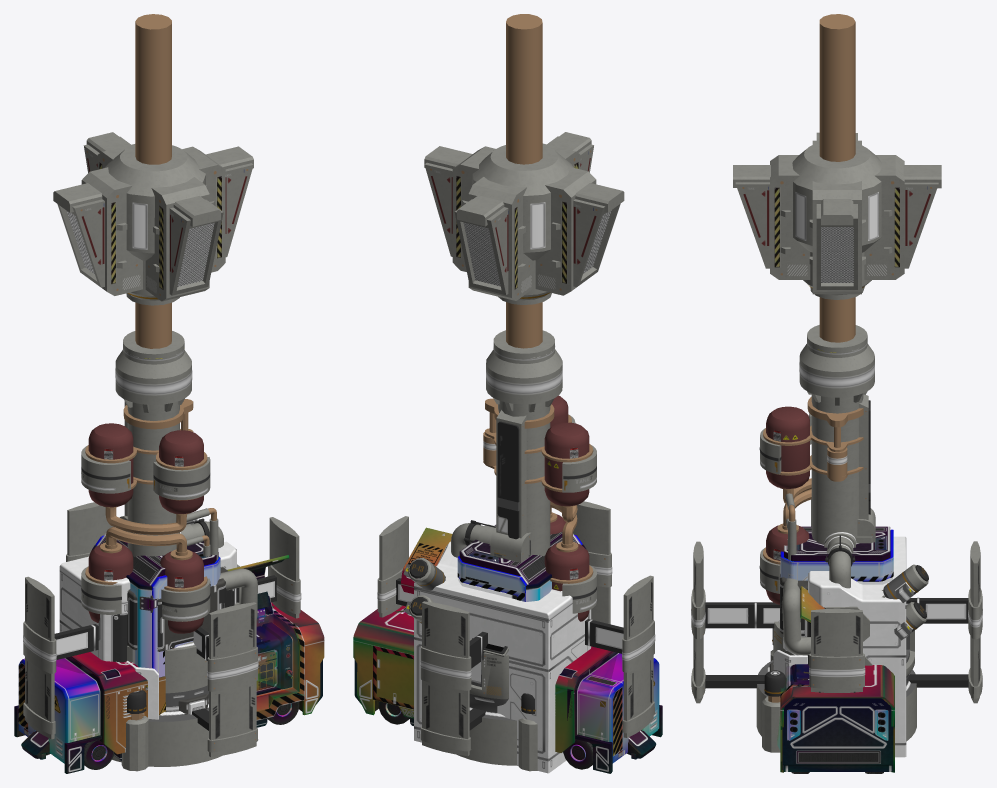
Rendered from energie.glb.
3 views of the same model, side by side, from view 1: azimuth 30°, elevation 25°; view 2: azimuth 150°, elevation 25°; view 3: azimuth 270°, elevation 25° (orthographic).
Parts seen in each view (by area): view 1: prop_energie_generator_oxygen_1_a, prop_energie_generator_mobile_1_b, prop_energie_generator_mining_1_a, prop_energie_generator_standing_1_a, prop_energie_generator_mobile_1_d; view 2: prop_energie_generator_oxygen_1_a, prop_energie_generator_mining_1_a, prop_energie_generator_mobile_1_d, prop_energie_generator_mobile_1_b, prop_energie_generator_standing_1_a; view 3: prop_energie_generator_oxygen_1_a, prop_energie_generator_mobile_1_d, prop_energie_generator_mining_1_a, prop_energie_generator_standing_1_a, prop_energie_generator_mobile_1_b.
Part boxes in pixels (x1,y1,x2,y2): prop_energie_generator_oxygen_1_a: (23, 14, 301, 771); prop_energie_generator_mobile_1_b: (15, 555, 324, 773); prop_energie_generator_mining_1_a: (59, 541, 236, 719); prop_energie_generator_standing_1_a: (92, 533, 220, 677); prop_energie_generator_mobile_1_d: (14, 605, 304, 773); prop_energie_generator_oxygen_1_a: (377, 14, 655, 771); prop_energie_generator_mining_1_a: (414, 541, 591, 773); prop_energie_generator_mobile_1_d: (353, 609, 661, 773); prop_energie_generator_mobile_1_b: (360, 527, 662, 771); prop_energie_generator_standing_1_a: (457, 525, 585, 601); prop_energie_generator_oxygen_1_a: (691, 14, 982, 752); prop_energie_generator_mobile_1_d: (777, 664, 894, 773); prop_energie_generator_mining_1_a: (767, 536, 906, 757); prop_energie_generator_standing_1_a: (780, 526, 893, 584); prop_energie_generator_mobile_1_b: (780, 586, 893, 773).
Bounding box in the file's own units: 3.73 × 9.48 × 3.59.
78 materials, 58 textured.
